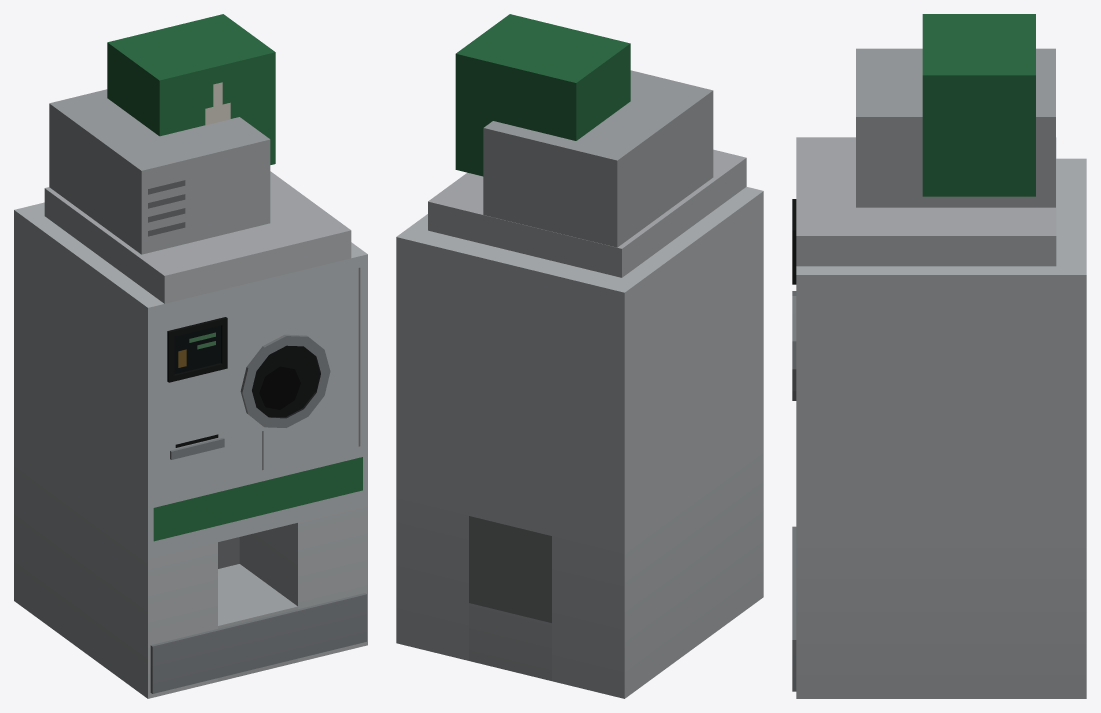
The model's file is shop.bottle_return.green.glb.
3 views of the same model, side by side, from view 1: azimuth 30°, elevation 25°; view 2: azimuth 150°, elevation 25°; view 3: azimuth 270°, elevation 25° (orthographic). The views are drawn at different scales.
Visible parts, largest first — view 1: shop_bottle_return_green; view 2: shop_bottle_return_green; view 3: shop_bottle_return_green.
Boxes of the visible parts, x1,y1,x2,y2 form: shop_bottle_return_green: [14, 14, 367, 698]; shop_bottle_return_green: [396, 14, 763, 698]; shop_bottle_return_green: [792, 14, 1086, 698].
Size of what is drawn, in the model's own units: 0.824 by 2 by 0.881.
